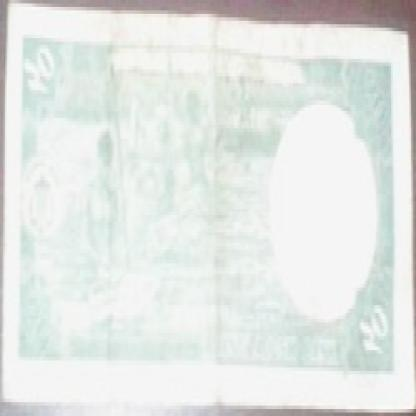Twenty: (24, 35, 74, 108), (352, 302, 392, 364)
